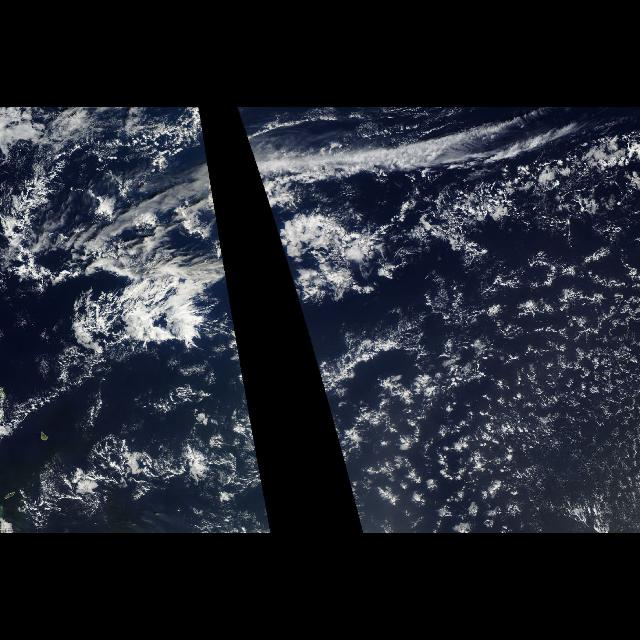Fish: (0, 107, 238, 380), (236, 107, 254, 157)
Gravel: (332, 223, 638, 532)
